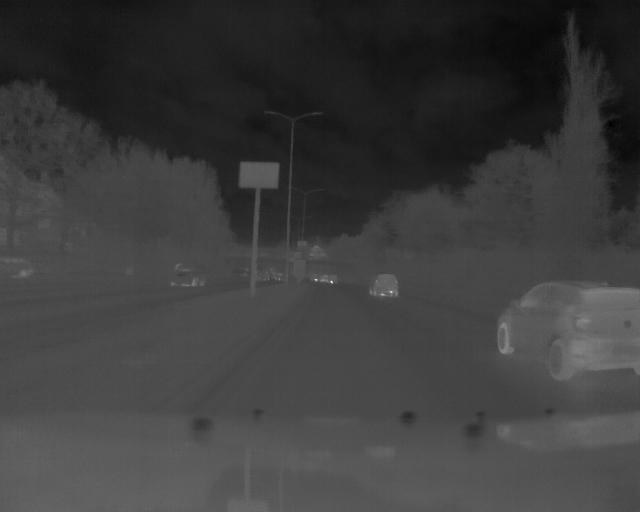car: (493, 277, 640, 382), (168, 262, 209, 288), (368, 273, 399, 298)
